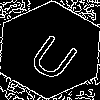U: (25, 25, 88, 84)
